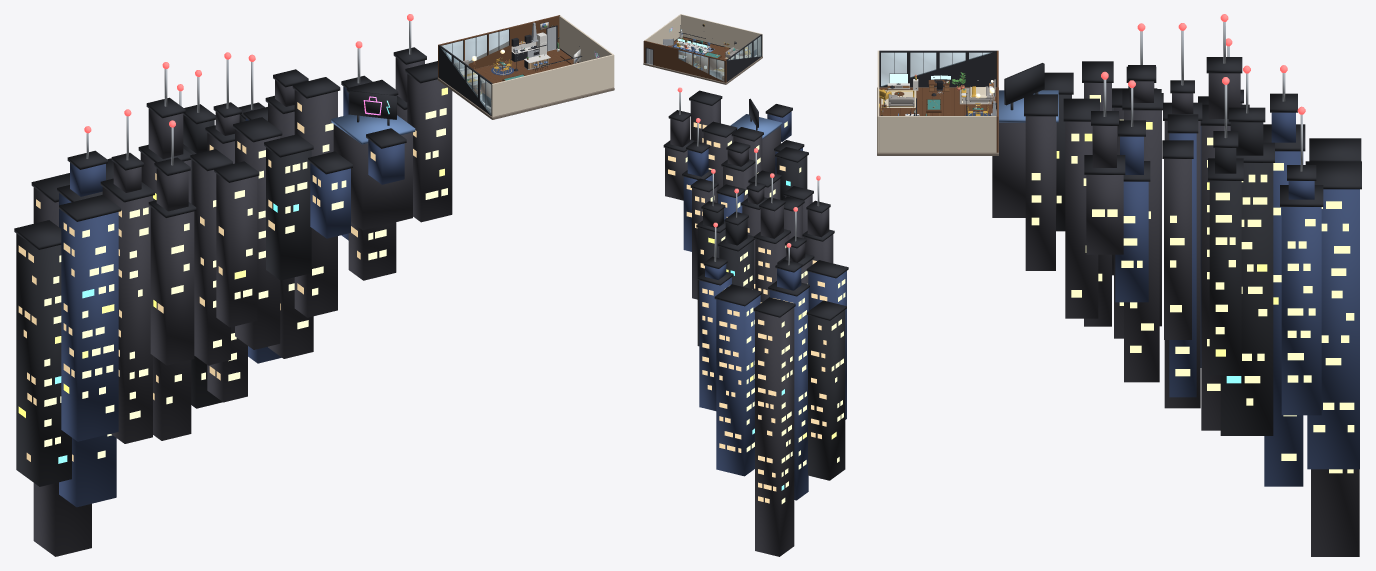
The model's file is tier5.glb.
3 renders of one model, left to right at view 1: azimuth 30°, elevation 25°; view 2: azimuth 150°, elevation 25°; view 3: azimuth 270°, elevation 25°, orthographic. The views are drawn at different scales.
Parts seen in each view (by area): view 1: outside_mesh, wall_s, wall_n_decor_mesh, wall_n, wall_e, wall_w, floor, wall_w_decor_mesh; view 2: outside_mesh, wall_s, wall_n, wall_n_decor_mesh, floor, wall_w, wall_e, wall_w_decor_mesh, slab; view 3: outside_mesh, wall_e, wall_w, wall_w_decor_mesh, floor, slab, floor_decor_mesh.
Part boxes in pixels (bbox=[...]): outside_mesh: bbox=[14, 14, 452, 556]; wall_s: bbox=[491, 54, 614, 116]; wall_n_decor_mesh: bbox=[442, 21, 548, 63]; wall_n: bbox=[438, 15, 559, 77]; wall_e: bbox=[559, 15, 612, 62]; wall_w: bbox=[439, 45, 492, 115]; floor: bbox=[473, 49, 578, 97]; wall_w_decor_mesh: bbox=[440, 47, 491, 115]; outside_mesh: bbox=[663, 87, 848, 556]; wall_s: bbox=[680, 14, 762, 55]; wall_n: bbox=[643, 40, 726, 82]; wall_n_decor_mesh: bbox=[662, 44, 724, 81]; floor: bbox=[668, 37, 729, 80]; wall_w: bbox=[726, 34, 762, 81]; wall_e: bbox=[644, 14, 680, 45]; wall_w_decor_mesh: bbox=[728, 36, 761, 60]; slab: bbox=[643, 56, 762, 84]; outside_mesh: bbox=[992, 14, 1361, 556]; wall_e: bbox=[879, 116, 996, 152]; wall_w: bbox=[879, 50, 996, 87]; wall_w_decor_mesh: bbox=[880, 52, 992, 86]; floor: bbox=[879, 87, 996, 115]; slab: bbox=[877, 87, 998, 155]; floor_decor_mesh: bbox=[881, 88, 991, 115].
Bounding box in the file's own units: 44.89 × 58.04 × 41.28.
